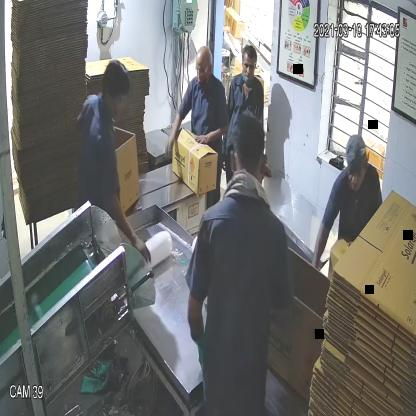no_glove: (102, 180, 152, 281), (304, 206, 330, 270), (162, 114, 188, 167), (194, 113, 233, 146)
